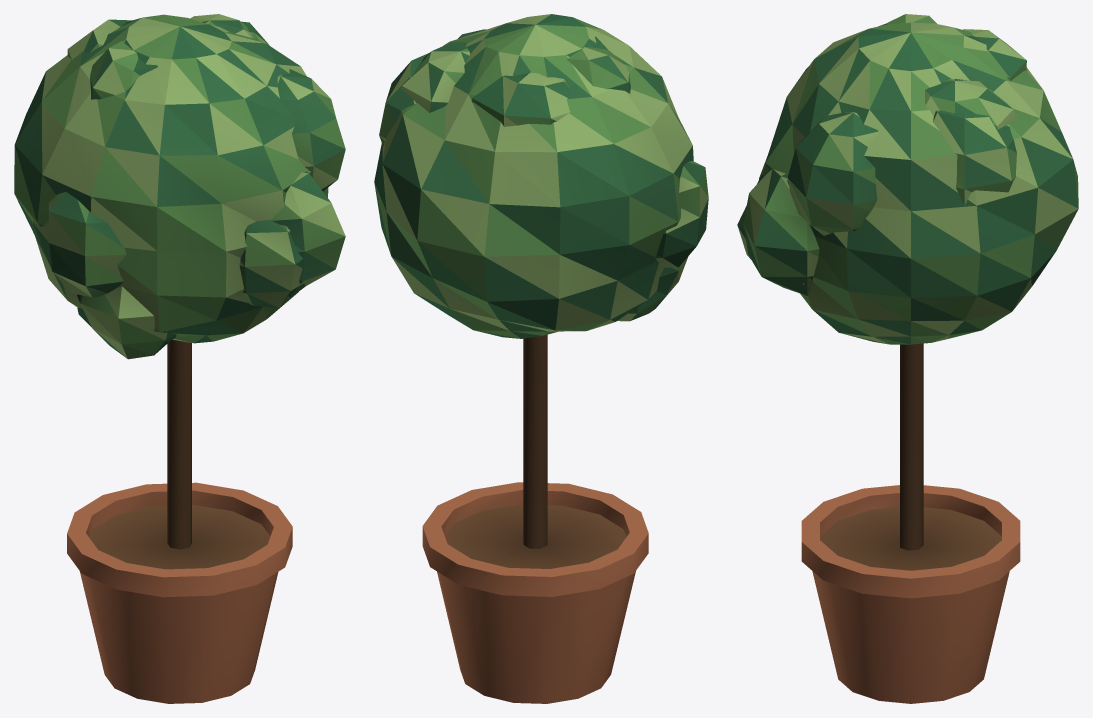
Rendered from chau-cay-tron.glb.
3 renders of one model, left to right at view 1: azimuth 30°, elevation 25°; view 2: azimuth 150°, elevation 25°; view 3: azimuth 270°, elevation 25°, orthographic.
Visible parts, largest first — view 1: chau-cay-tron; view 2: chau-cay-tron; view 3: chau-cay-tron.
Part boxes in pixels (<box>): chau-cay-tron: <box>14,14,345,703</box>; chau-cay-tron: <box>374,14,708,703</box>; chau-cay-tron: <box>737,14,1078,703</box>.
Size of the model in its own units: 0.6264 by 1.36 by 0.6581.
